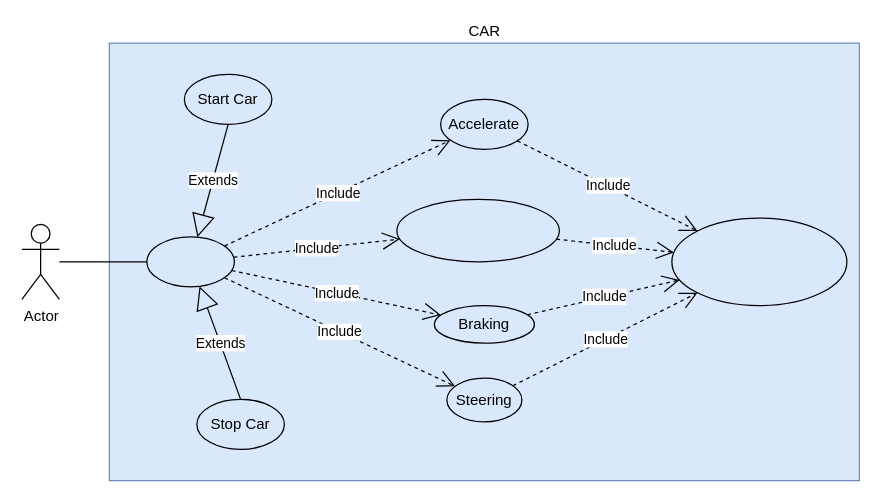
This 881x503 diagram has some shape labels left out. Here are the shapes that lost their labels. From the top down, the centre of each, then its label:
point (477, 230): Notification to other cars and pedestrians
point (190, 261): Drive car
point (759, 261): Avoid collisions
